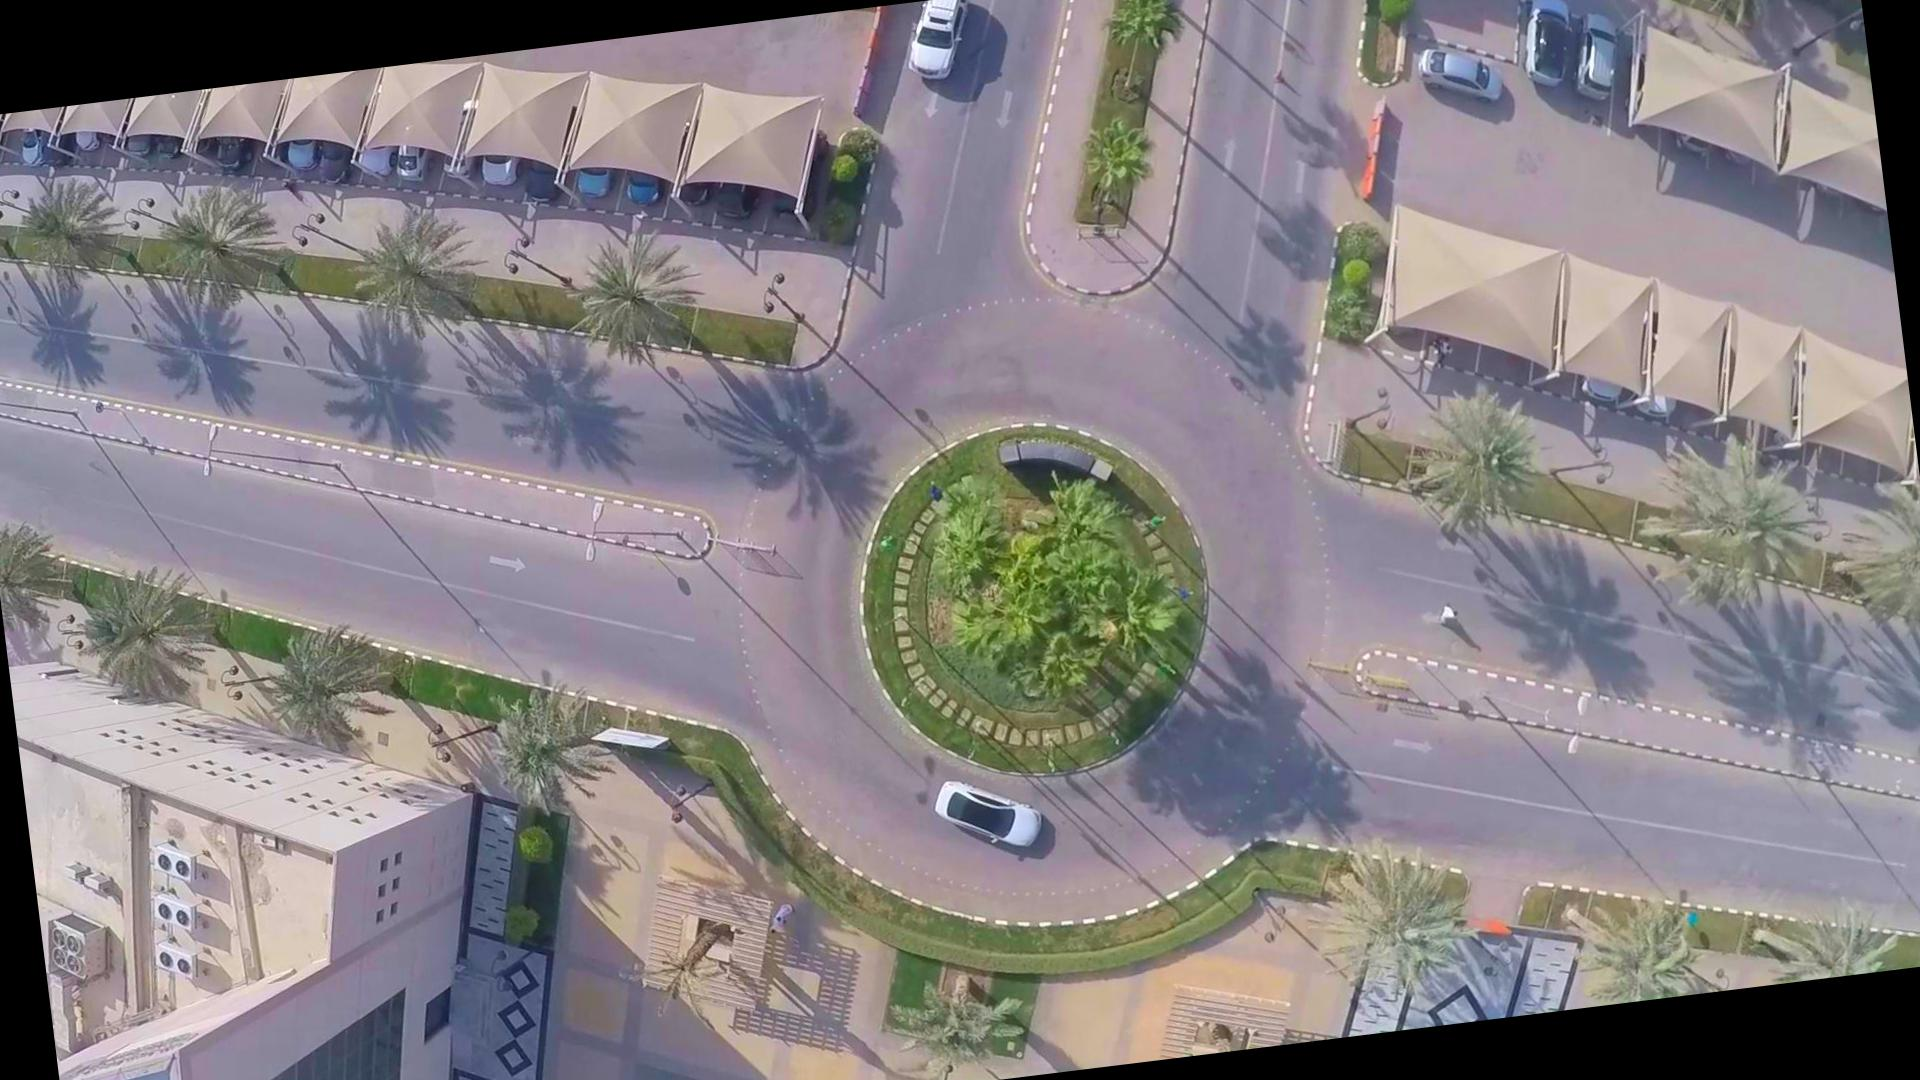vehicle: (922, 764, 1054, 873)
